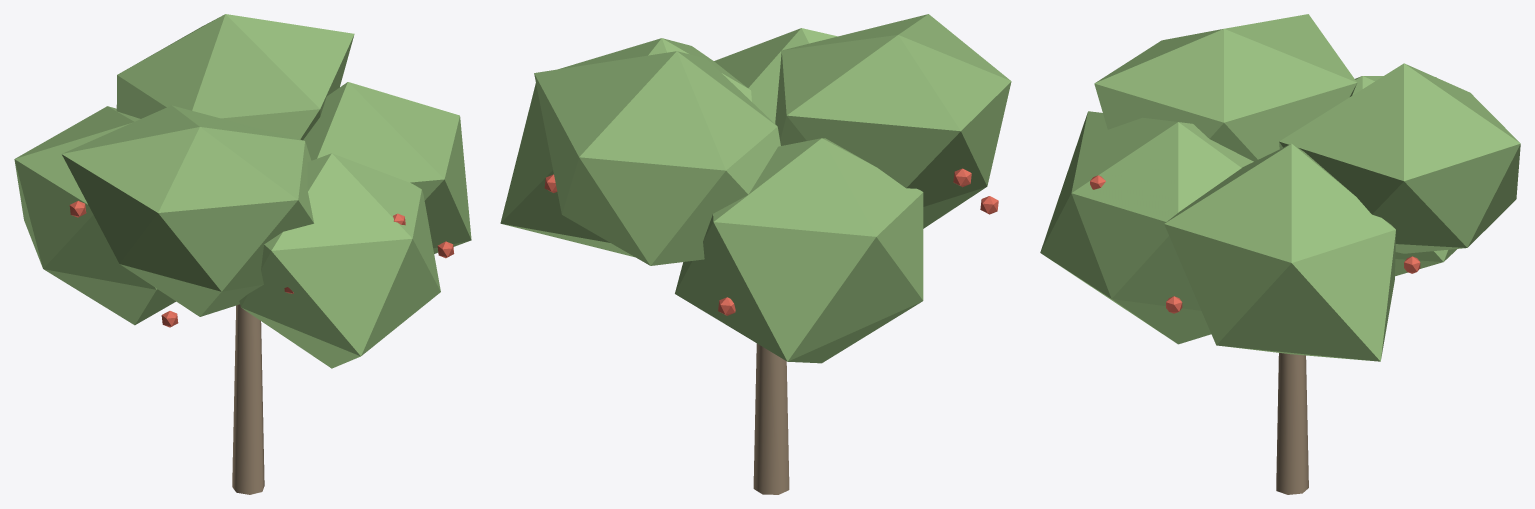
Rendered from apple.glb.
The picture shows the model from 3 angles, left to right: view 1: azimuth 30°, elevation 25°; view 2: azimuth 150°, elevation 25°; view 3: azimuth 270°, elevation 25°; orthographic projection. The views are drawn at different scales.
Visible parts, largest first — view 1: apple; view 2: apple; view 3: apple.
Boxes of the visible parts, x1=… form: apple: x1=14, y1=14, x2=471, y2=494; apple: x1=500, y1=14, x2=1011, y2=494; apple: x1=1040, y1=14, x2=1520, y2=494.
Bounding box in the file's own units: 4.33 × 4.52 × 4.47.
